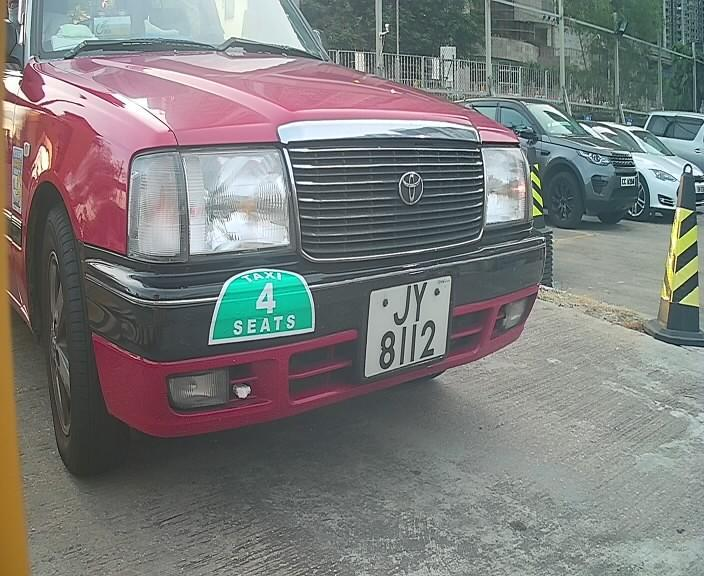taxi: (13, 29, 576, 443)
taxi_mark: (195, 255, 337, 353)
